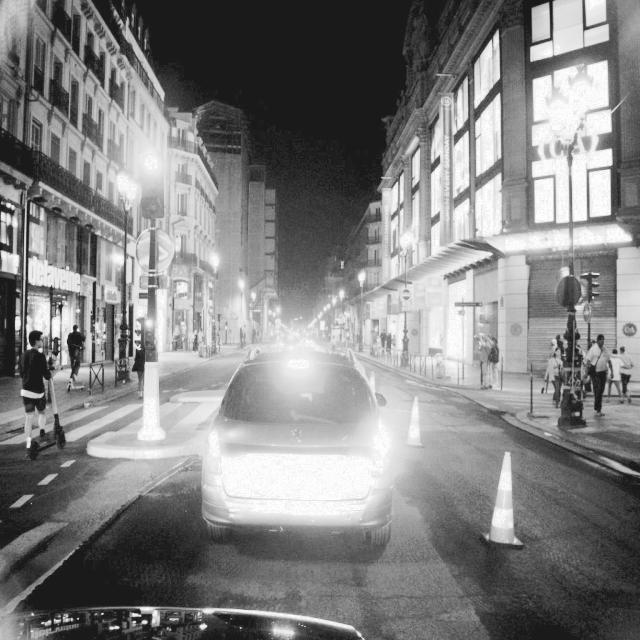Car: (197, 347, 396, 548)
Light: (139, 151, 164, 219)
Sign: (135, 227, 175, 289)
